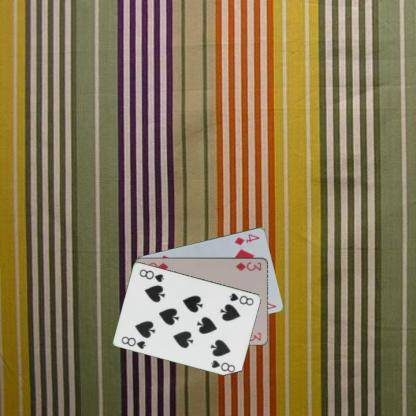3d: (233, 260, 262, 272)
4d: (232, 231, 260, 246)
8s: (227, 290, 255, 307), (119, 334, 147, 350)
